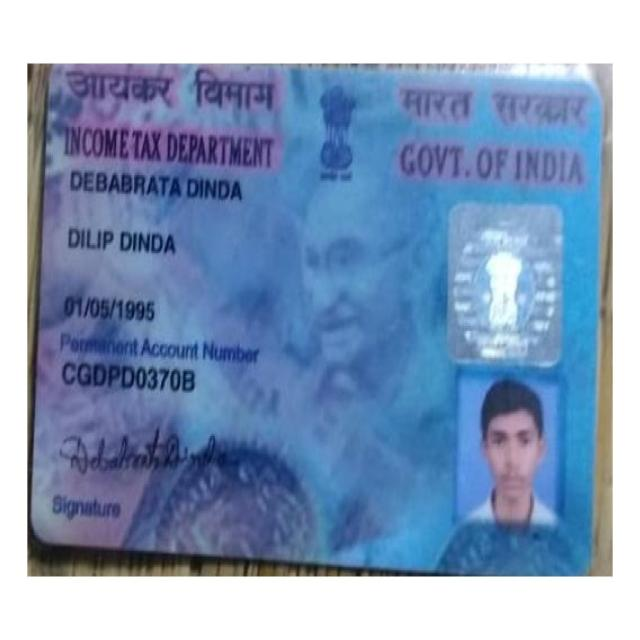pan_card: (33, 69, 603, 572)
